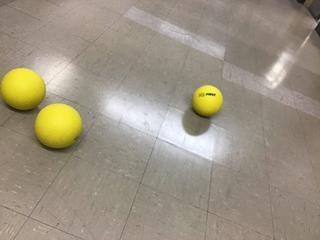power_cell: (31, 92, 83, 151), (1, 65, 49, 114), (194, 82, 228, 121)
